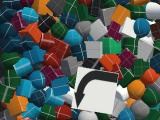Left: (71, 66, 119, 114)
